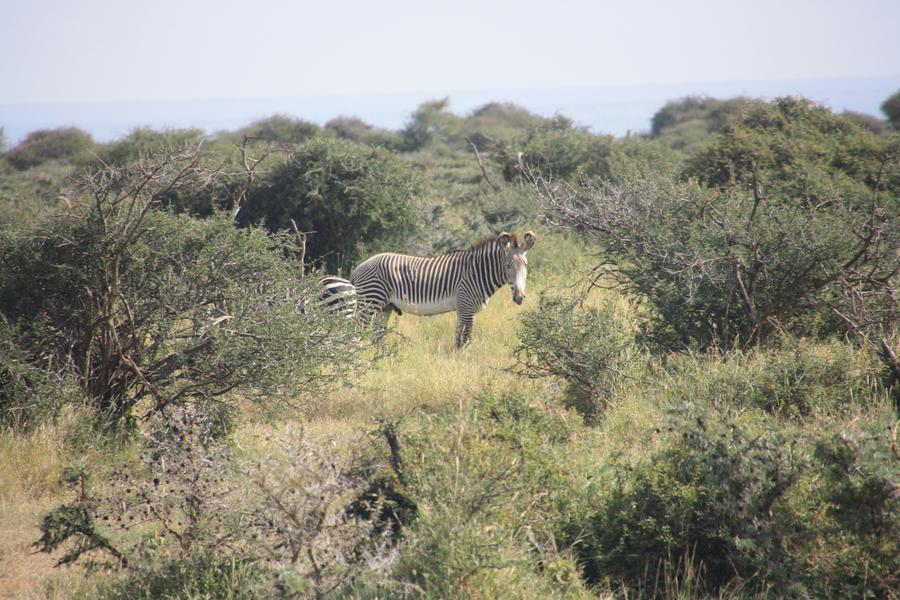zebra_grevys: (357, 251, 485, 316)
